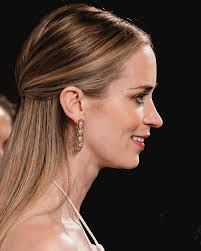n.blunt: (145, 99, 172, 126)
